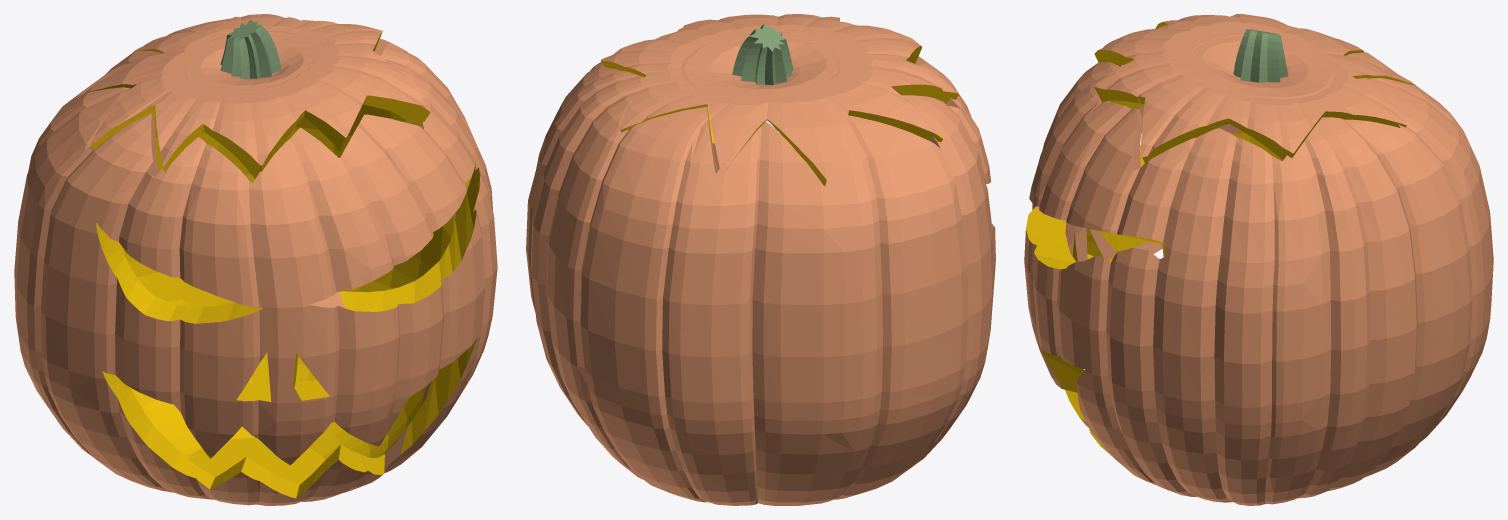
The model's file is JackOLantern.fbx.
3 views of the same model, side by side, from view 1: azimuth 30°, elevation 25°; view 2: azimuth 150°, elevation 25°; view 3: azimuth 270°, elevation 25° (orthographic). The views are drawn at different scales.
Visible parts, largest first — view 1: PumpkinWit, PumpkinLid, Spline Obj; view 2: PumpkinWit, PumpkinLid, Spline Obj; view 3: PumpkinWit, PumpkinLid, Spline Obj.
Part boxes in pixels (x1,y1,x2,y2): PumpkinWit: (14, 18, 497, 505); PumpkinLid: (85, 14, 430, 178); Spline Obj: (220, 19, 281, 78); PumpkinWit: (526, 56, 995, 505); PumpkinLid: (600, 14, 959, 185); Spline Obj: (732, 24, 793, 85); PumpkinWit: (1024, 26, 1493, 505); PumpkinLid: (1094, 14, 1416, 163); Spline Obj: (1233, 29, 1288, 82).
Bounding box in the file's own units: 1.09 × 1.06 × 1.04.
